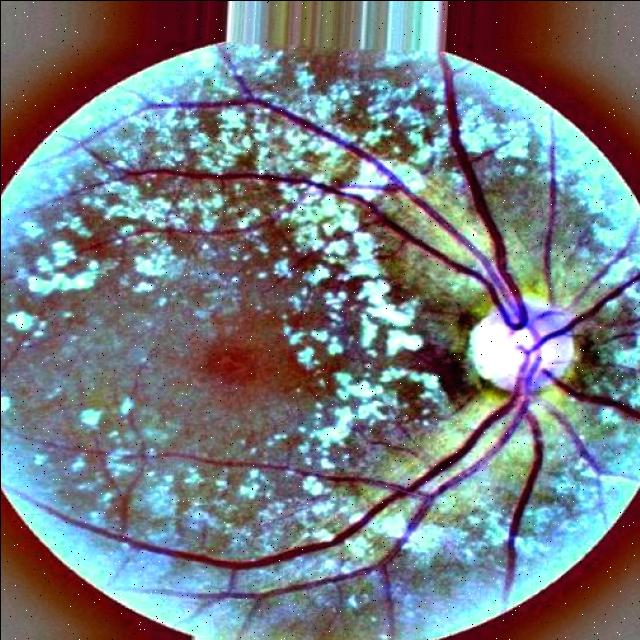Macula: (190, 324, 277, 398)
Nerves: (216, 84, 537, 325), (256, 351, 547, 601)
Optic Disk: (455, 288, 580, 401)
